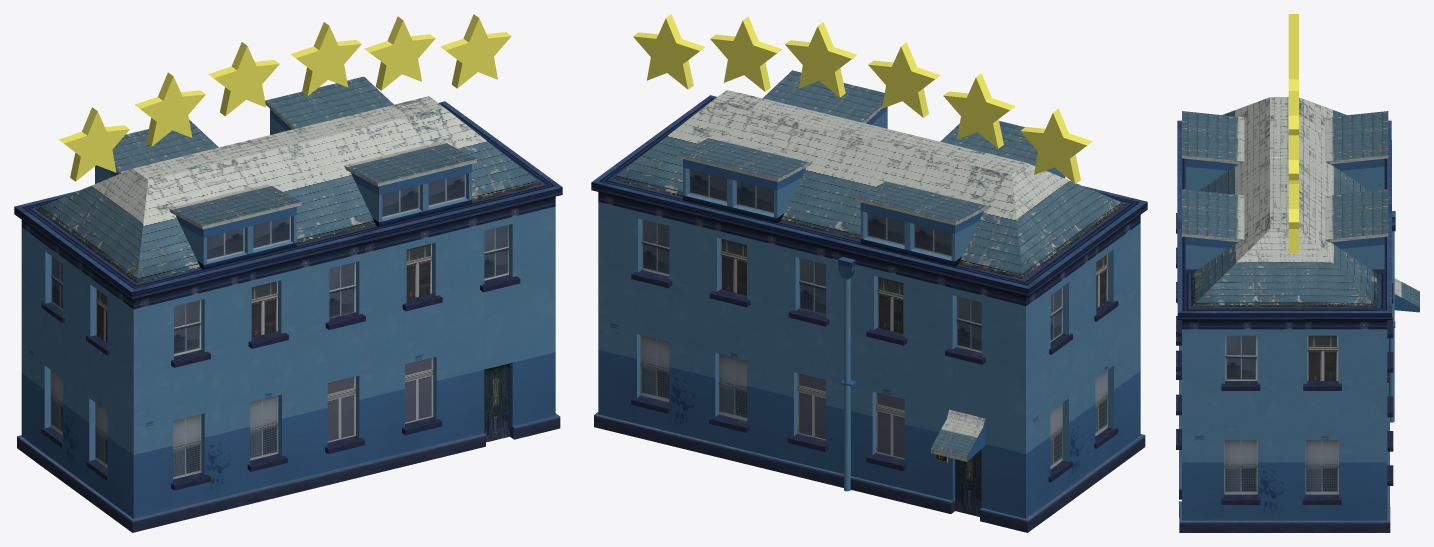
The model's file is 六星级酒店.gltf.
3 renders of one model, left to right at view 1: azimuth 30°, elevation 25°; view 2: azimuth 150°, elevation 25°; view 3: azimuth 270°, elevation 25°, orthographic. The views are drawn at different scales.
Visible parts, largest first — view 1: node__-14394, node_star (2)_-14404, node_star (3)_-14406, node_star (4)_-14408, node_star (1)_-14402, node_star (6)_-14412, node_star (5)_-14410; view 2: node__-14394, node_star (1)_-14402, node_star (6)_-14412, node_star (3)_-14406, node_star (5)_-14410, node_star (2)_-14404, node_star (4)_-14408; view 3: node__-14394, node_star (6)_-14412, node_star (3)_-14406, node_star (1)_-14402, node_star (2)_-14404.
Boxes of the visible parts, x1,y1,x2,y2 form: node__-14394: [14, 76, 562, 532]; node_star (2)_-14404: [208, 42, 279, 116]; node_star (3)_-14406: [364, 16, 435, 90]; node_star (4)_-14408: [134, 72, 205, 146]; node_star (1)_-14402: [290, 22, 361, 96]; node_star (6)_-14412: [440, 14, 511, 88]; node_star (5)_-14410: [58, 107, 129, 181]; node__-14394: [591, 70, 1147, 532]; node_star (1)_-14402: [785, 22, 857, 97]; node_star (6)_-14412: [633, 14, 704, 89]; node_star (3)_-14406: [710, 16, 782, 91]; node_star (5)_-14410: [1020, 108, 1092, 183]; node_star (2)_-14404: [868, 42, 940, 117]; node_star (4)_-14408: [943, 73, 1015, 148]; node__-14394: [1176, 97, 1419, 532]; node_star (6)_-14412: [1288, 184, 1298, 252]; node_star (3)_-14406: [1288, 135, 1298, 183]; node_star (1)_-14402: [1288, 91, 1298, 135]; node_star (2)_-14404: [1288, 54, 1298, 90].
Bounding box in the file's own units: 10.91 × 9.33 × 5.64.
